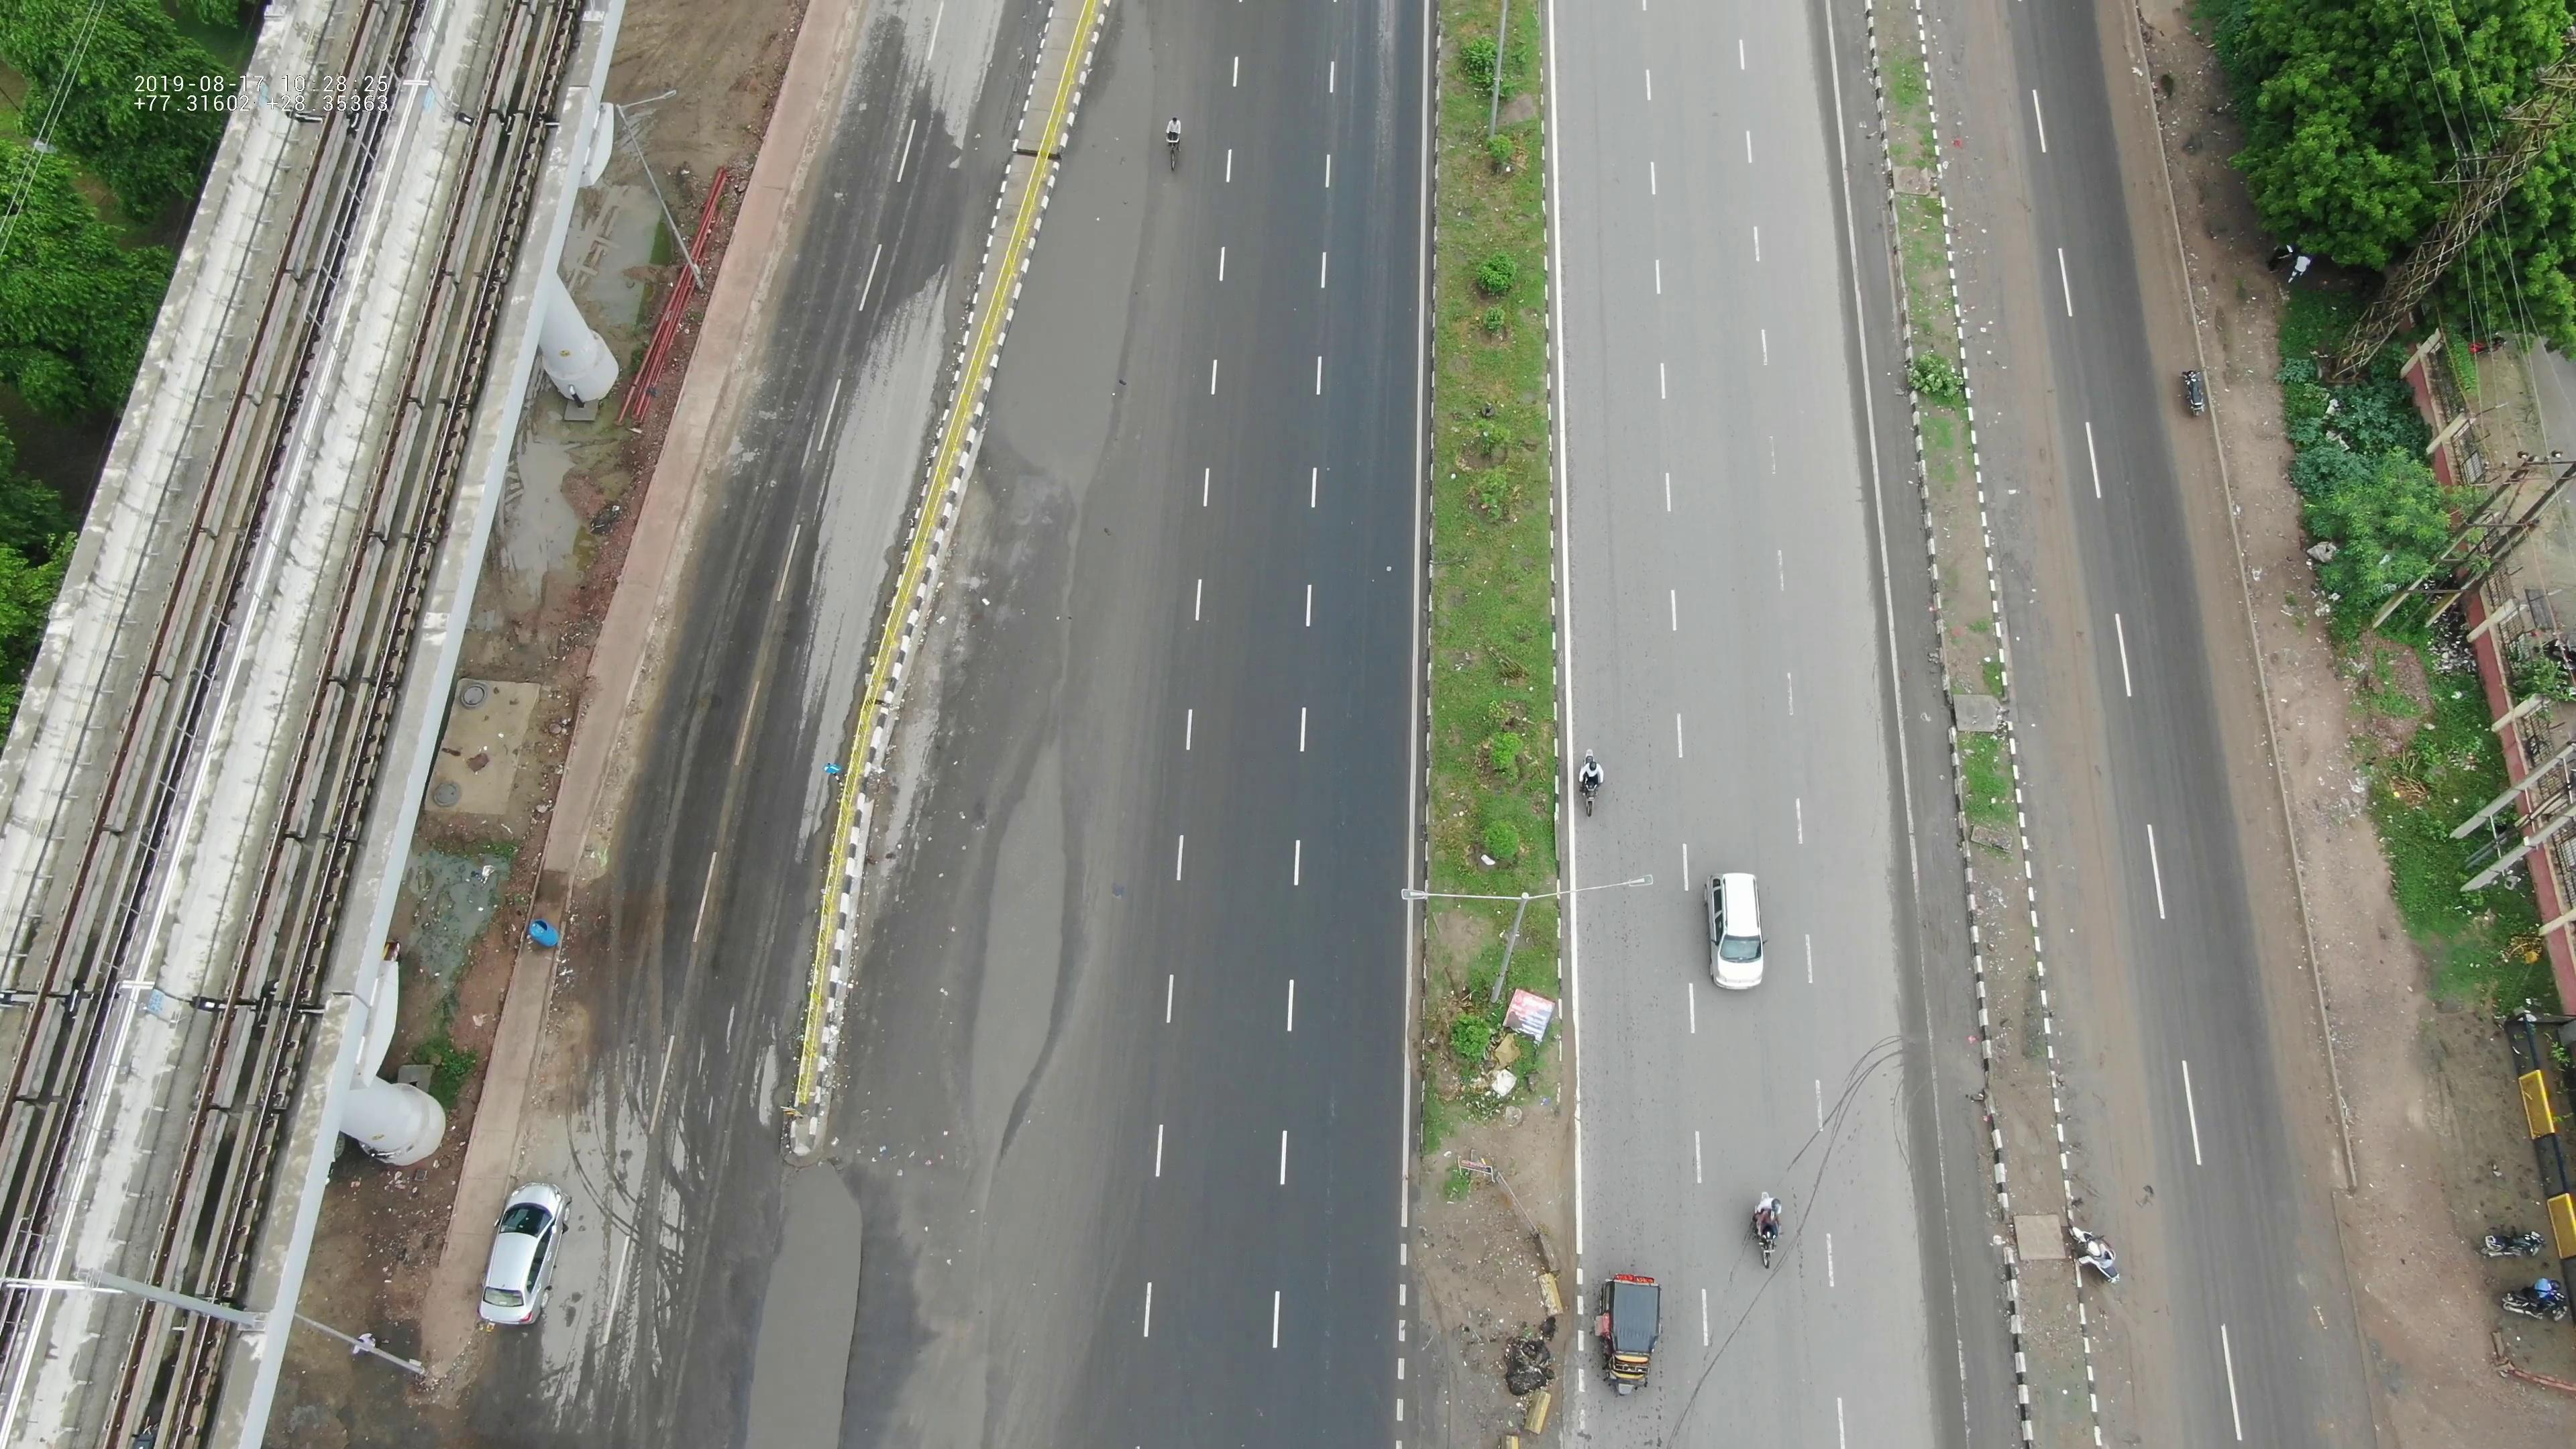Muddy_road: (2065, 1077, 2185, 1414), (2029, 757, 2150, 1058), (1955, 71, 2052, 396), (1990, 426, 2100, 709), (2162, 430, 2254, 731), (2222, 782, 2311, 1083), (2112, 81, 2187, 380)
Potholes: (945, 717, 1100, 1175), (724, 1168, 890, 1449)
Waterlogging: (1008, 25, 1166, 481)
